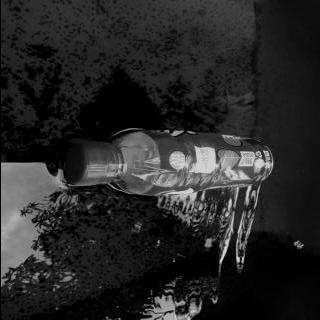bottle: (60, 128, 280, 198)
